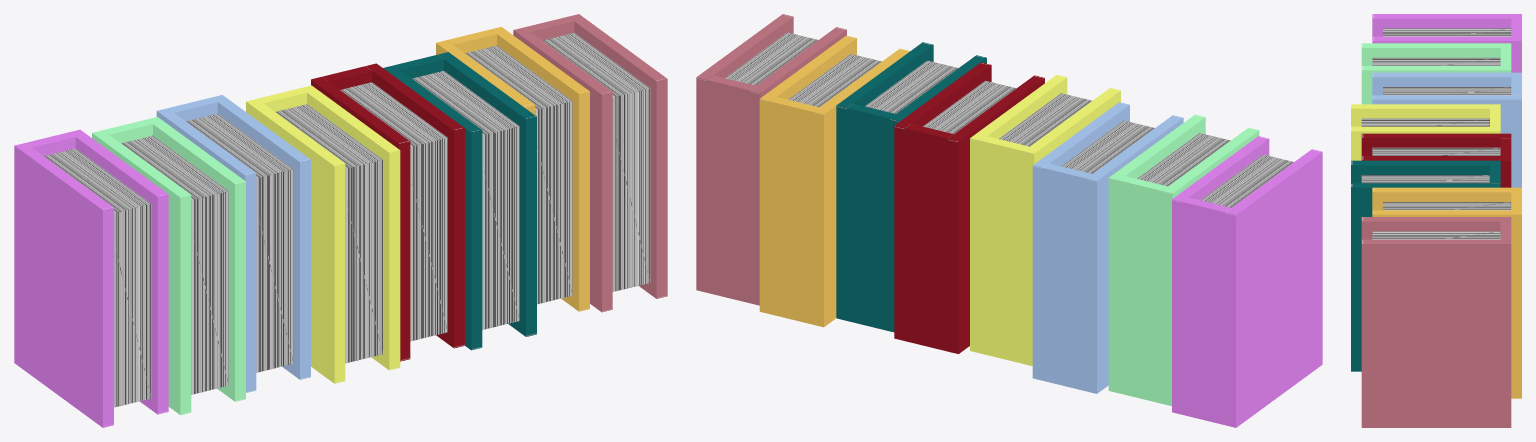
File: eight_books.glb
3 views of the same model, side by side, from view 1: azimuth 30°, elevation 25°; view 2: azimuth 150°, elevation 25°; view 3: azimuth 270°, elevation 25° (orthographic). The views are drawn at different scales.
Bounding box in the file's own units: 102 × 38 × 32.
8 materials, 8 textured.
